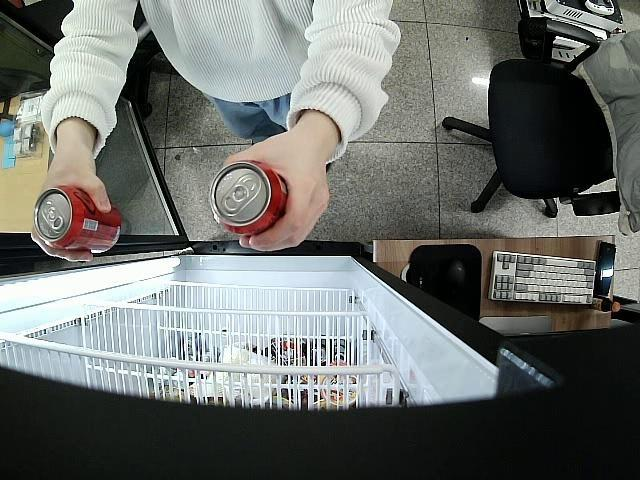11_cocaColaZero: (210, 160, 289, 240), (34, 186, 121, 256)
